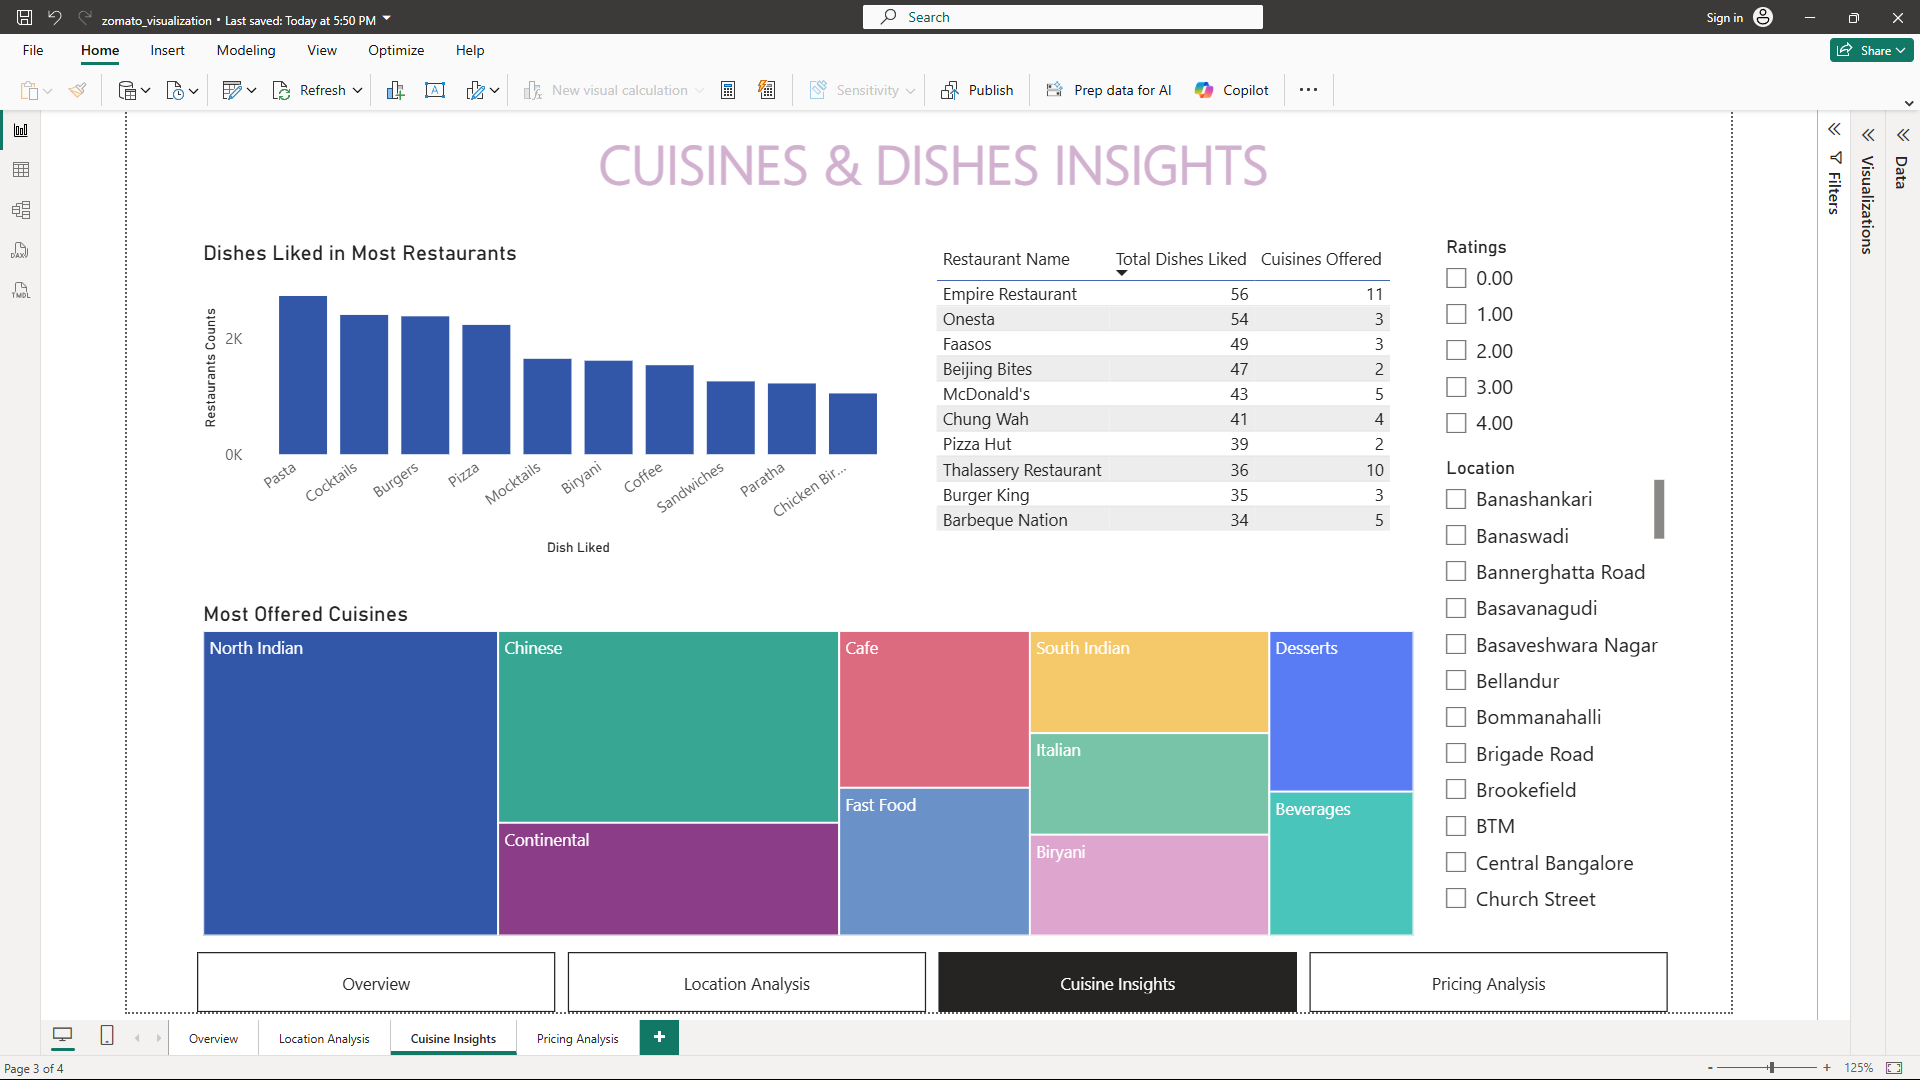

The page's visual inventory and layout, read from the dashboard file:
{"tool":"powerbi","page":{"name":"Cuisine Insights","canvas":[1280,720],"ordinal":2},"visuals":[{"type":"treemap","title":"Most Offered Cuisines","fields":{"Group":["cuisines_table.cuisines"],"Values":["Count(fact_table.Index)"]},"box":[56,392,976,272],"z":0},{"type":"columnChart","title":"Dishes Liked in Most Restaurants","fields":{"Category":["dishes_table.dish_liked"],"Y":["Count(fact_table.Index)"]},"box":[56,104,568,256],"z":1000},{"type":"slicer","fields":{"Values":["fact_table.location"]},"box":[1040,272,192,376],"z":2000},{"type":"pageNavigator","box":[56,672,1176,48],"z":3000},{"type":"textbox","box":[56,8,1176,72],"z":4000},{"type":"slicer","fields":{"Values":["fact_table.ratings(out of 5) (bins)"]},"box":[1040,96,192,176],"z":5000},{"type":"tableEx","fields":{"Values":["fact_table.name","fact_table.dish_liked","fact_table.cuisines"]},"box":[640,104,392,256],"z":5001}]}

Visuals, with their boxes on the page's 1280x720 design canvas (x1, y1, x2, y2). These are canvas units, not pixel positions in the 1920x1080 screenshot, which may show the page scaled, cropped or inside an application window:
"Most Offered Cuisines" treemap: [x1=56, y1=392, x2=1032, y2=664]
"Dishes Liked in Most Restaurants" columnChart: [x1=56, y1=104, x2=624, y2=360]
slicer - fact_table.location: [x1=1040, y1=272, x2=1232, y2=648]
pageNavigator: [x1=56, y1=672, x2=1232, y2=720]
textbox: [x1=56, y1=8, x2=1232, y2=80]
slicer - fact_table.ratings(out of 5) (bins): [x1=1040, y1=96, x2=1232, y2=272]
tableEx - fact_table.name x fact_table.dish_liked: [x1=640, y1=104, x2=1032, y2=360]
